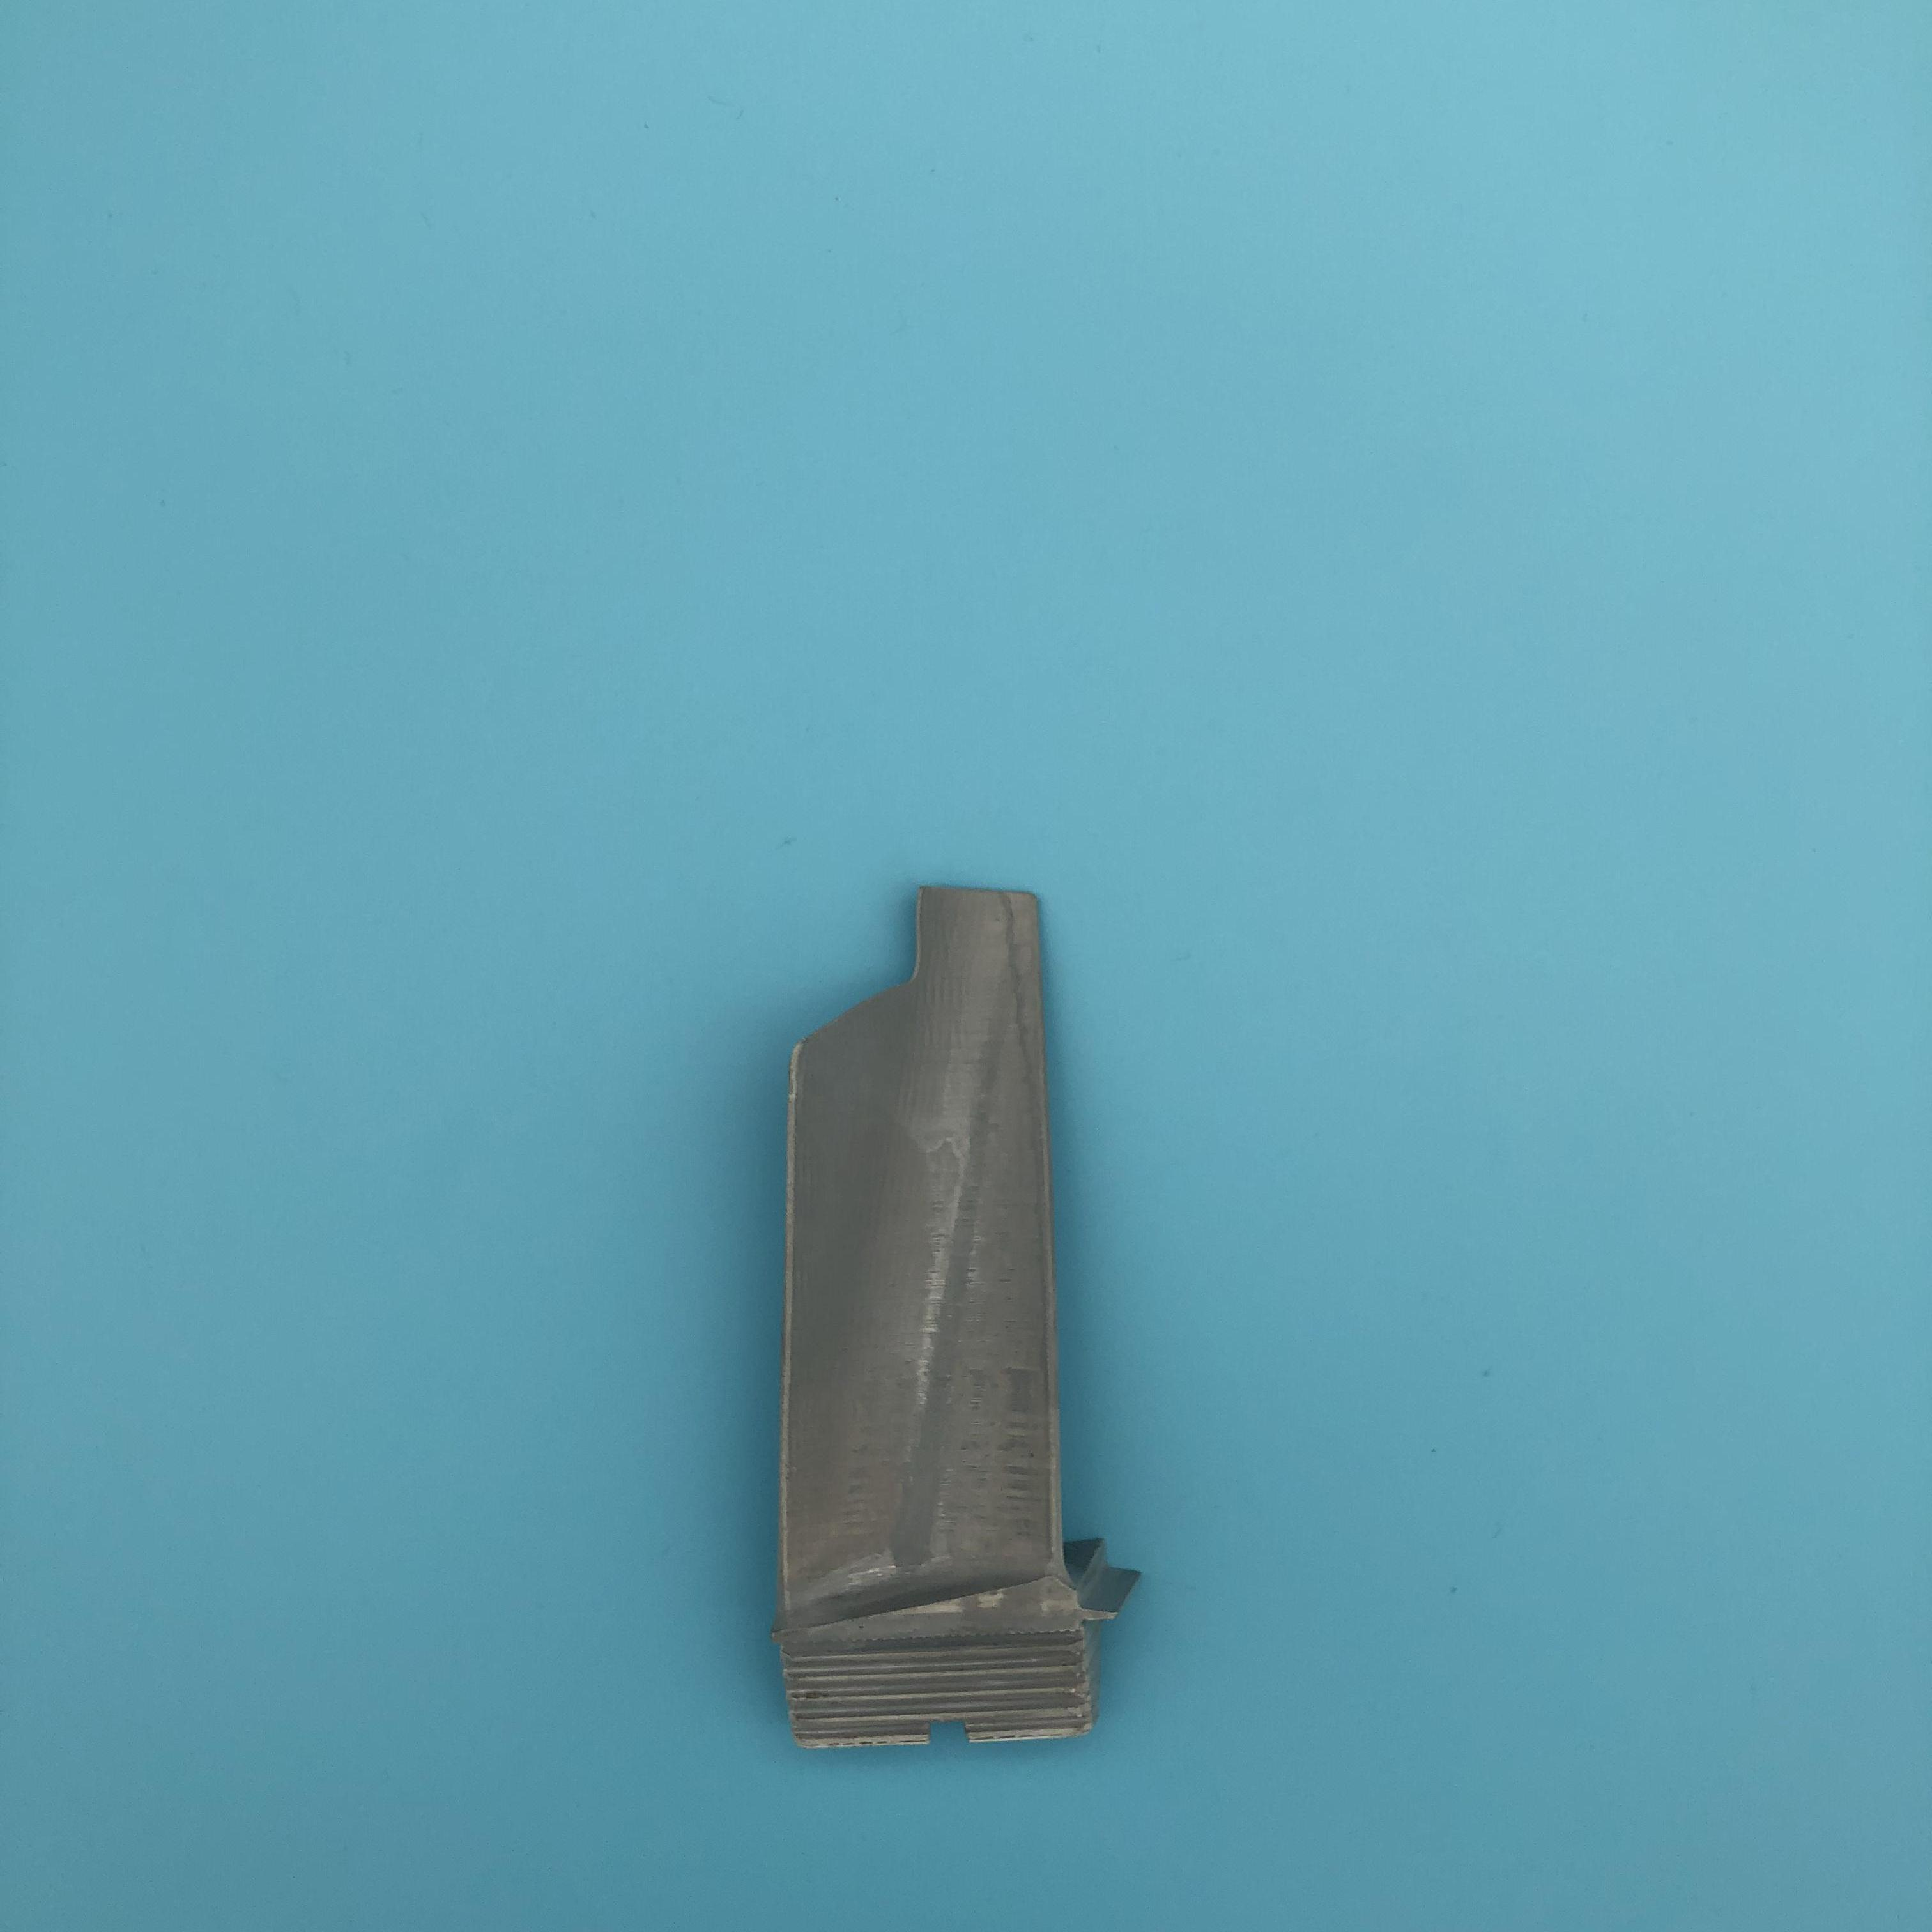fracture: (800, 856, 945, 1053)
